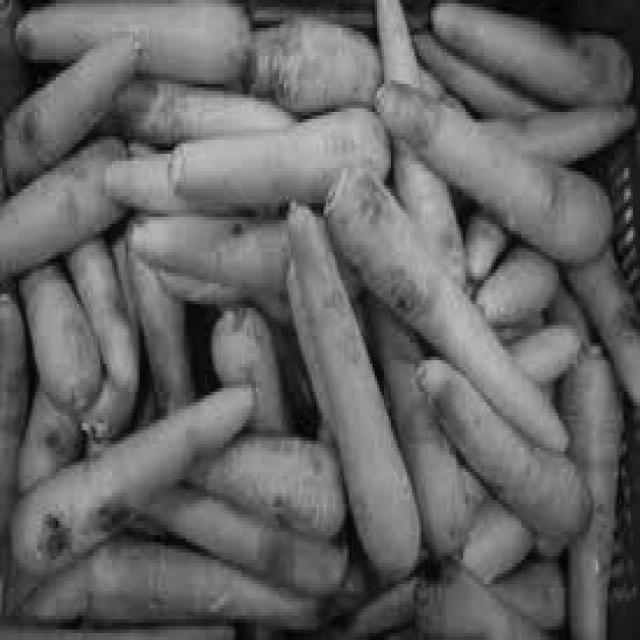Stale_Carrot: (316, 158, 451, 345), (12, 443, 164, 570), (210, 505, 339, 605), (403, 543, 458, 616)
